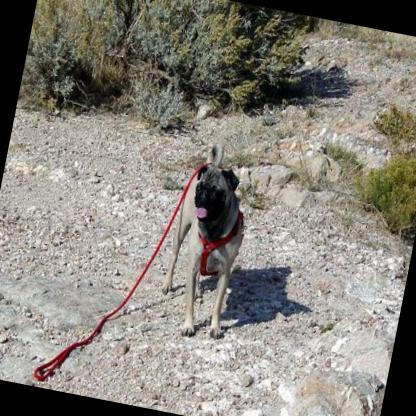pug: (154, 135, 260, 338)
